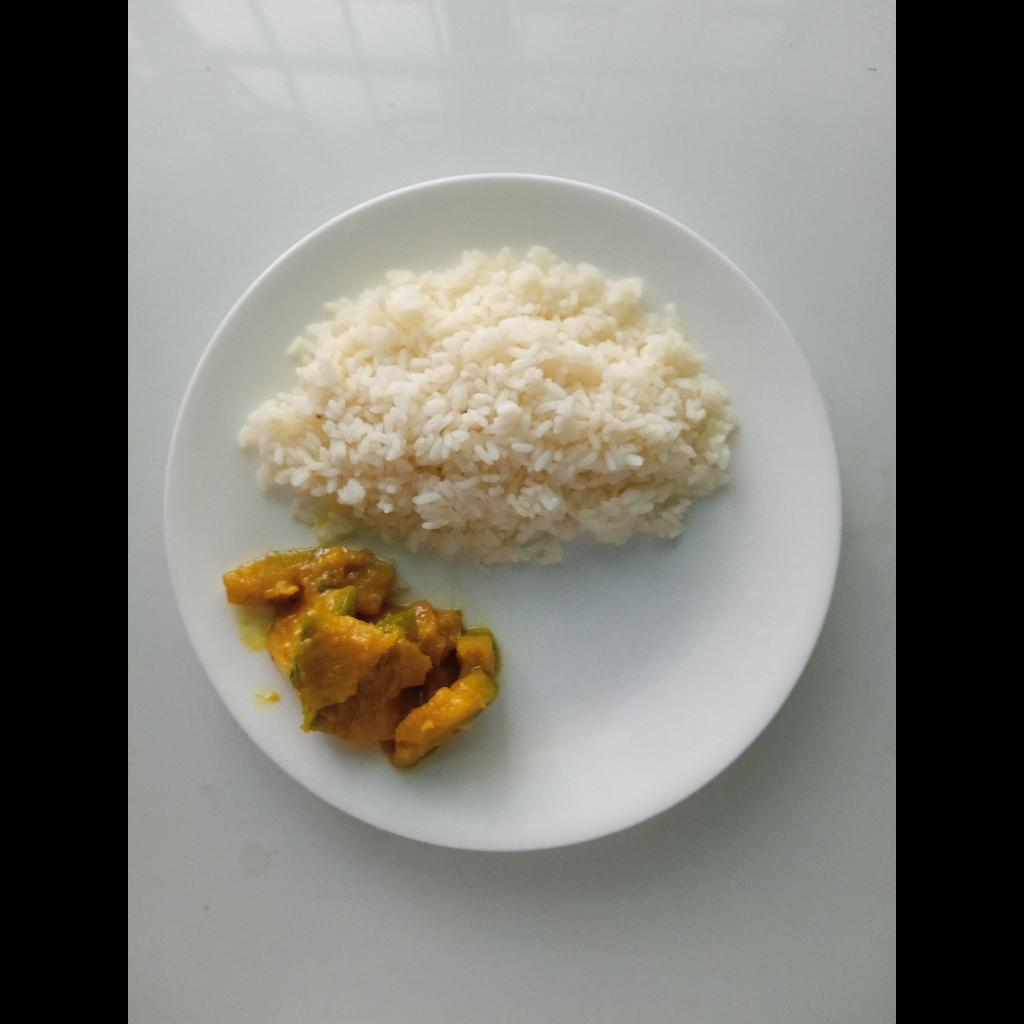chicken: (220, 549, 492, 761)
rice: (242, 255, 730, 570)
